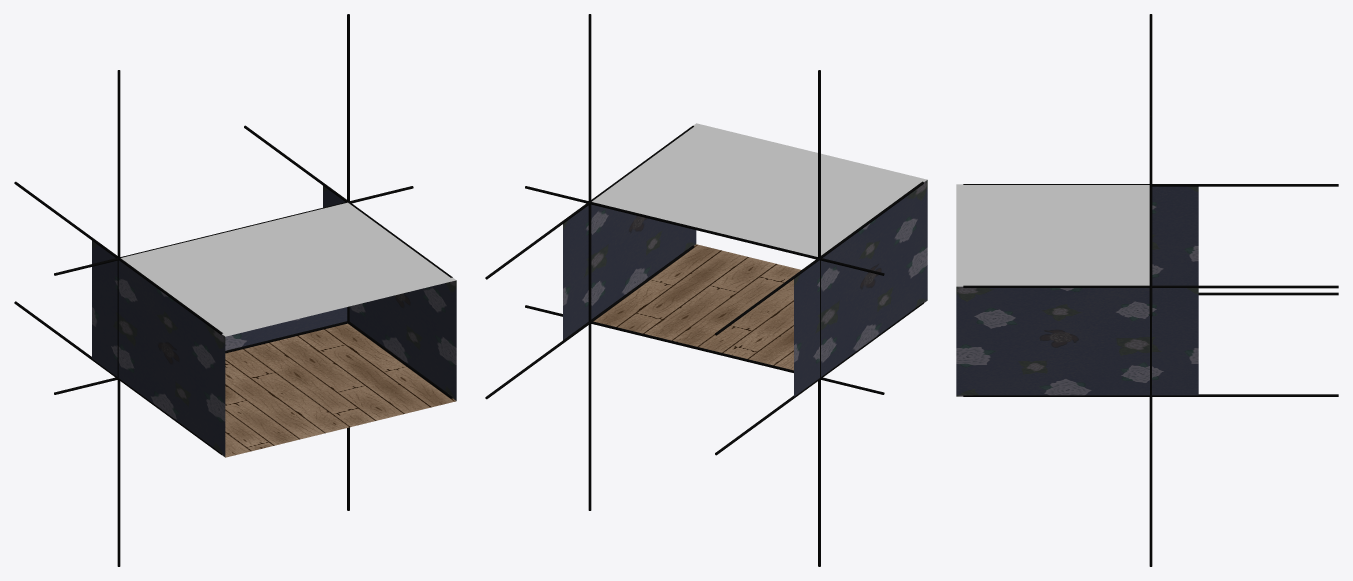
File: Sala1.fbx
The picture shows the model from 3 angles, left to right: view 1: azimuth 30°, elevation 25°; view 2: azimuth 150°, elevation 25°; view 3: azimuth 270°, elevation 25°; orthographic projection. The views are drawn at different scales.
Parts seen in each view (by area): view 1: Plane.010, Plane.008, Plane.021, Plane.022, Cylinder.007, Cylinder.008, Plane.009, Cylinder.006; view 2: Plane.010, Plane.021, Plane.008, Plane.022, Cylinder.007, Cylinder.008, Cylinder.006; view 3: Plane.022, Plane.010, Plane.021, Cylinder.008, Cylinder.007.
Part boxes in pixels (x1,y1,x2,y2): Plane.010: (121,202,455,336); Plane.008: (225,323,455,457); Plane.021: (92,241,225,457); Plane.022: (323,186,456,400); Cylinder.007: (117,14,349,566); Cylinder.008: (14,125,452,454); Plane.009: (225,307,347,350); Cylinder.006: (54,186,413,394); Plane.010: (592,123,926,256); Plane.021: (794,180,927,396); Plane.008: (593,244,800,370); Plane.022: (563,204,696,339); Cylinder.007: (588,14,820,566); Cylinder.008: (485,125,923,455); Cylinder.006: (525,186,884,394); Plane.022: (956,286,1198,396); Plane.010: (956,184,1149,286); Plane.021: (1152,186,1198,285); Cylinder.008: (963,184,1338,396); Cylinder.007: (1149,14,1152,566).
Size of the model in its own units: 620 by 820 by 631.
